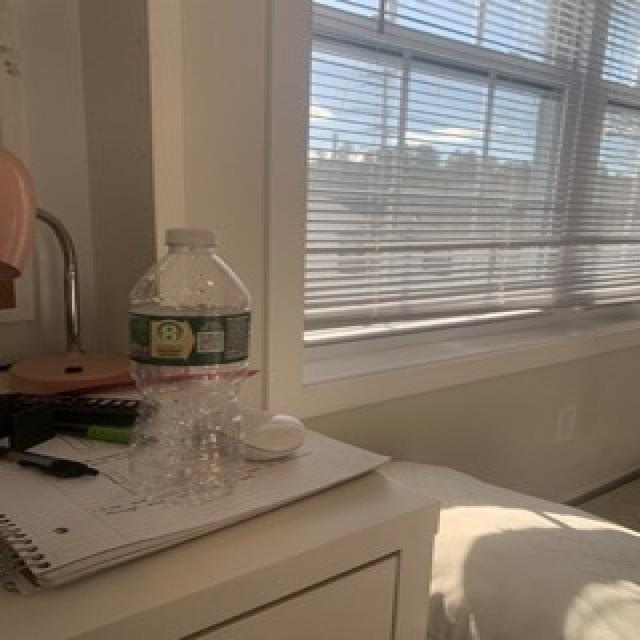water_bottle: (120, 224, 254, 511)
